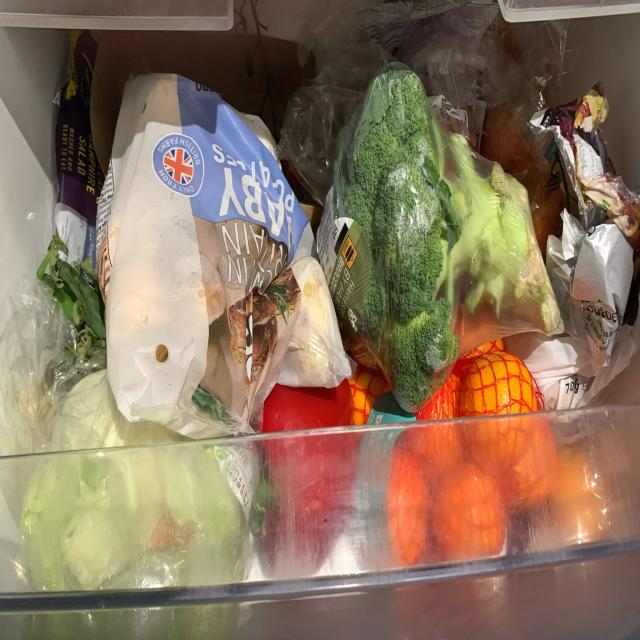Brocoli: (324, 60, 566, 377)
Lechuga/Endivia: (46, 373, 248, 640)
Patata: (106, 85, 327, 418)
